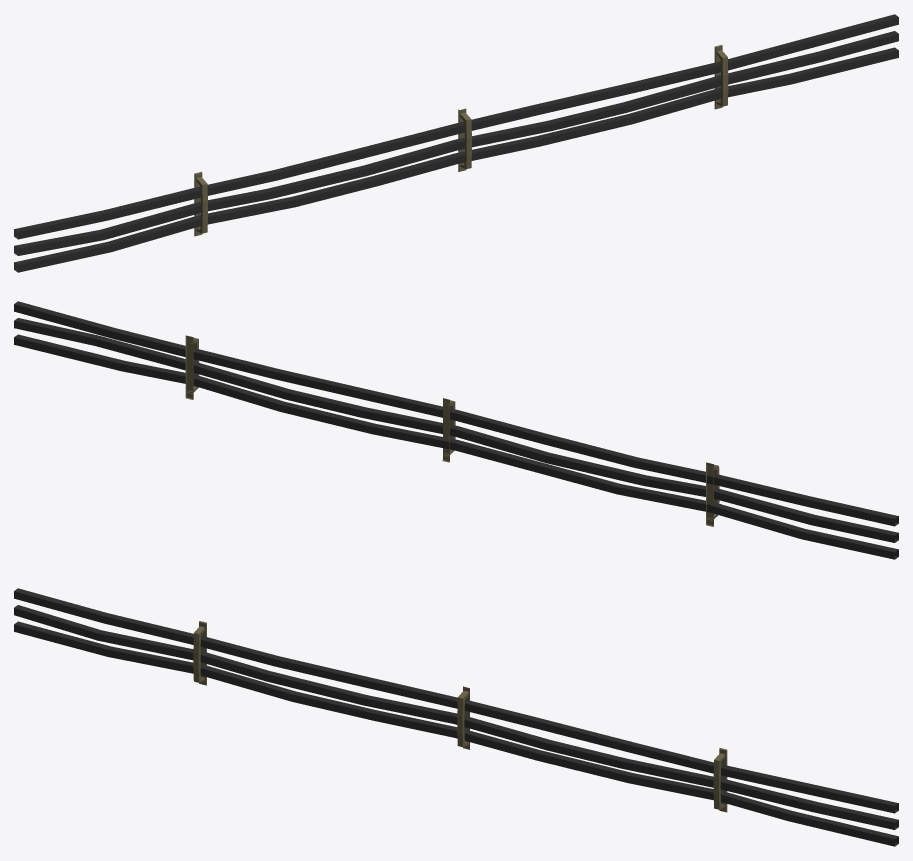
The model's file is SW_ENV_Wires3_StationWall_02_05m.fbx.
3 views of the same model, one above another, from view 1: azimuth 30°, elevation 25°; view 2: azimuth 150°, elevation 25°; view 3: azimuth 330°, elevation 25° (orthographic).
Parts seen in each view (by area): view 1: SW_ENV_Wires3_StationWall_02_05m; view 2: SW_ENV_Wires3_StationWall_02_05m; view 3: SW_ENV_Wires3_StationWall_02_05m.
Boxes of the visible parts, x1,y1,x2,y2 form: SW_ENV_Wires3_StationWall_02_05m: (14,14,898,272); SW_ENV_Wires3_StationWall_02_05m: (14,301,898,559); SW_ENV_Wires3_StationWall_02_05m: (14,588,898,846).
Size of the model in its own units: 500 by 34.12 by 7.06.
